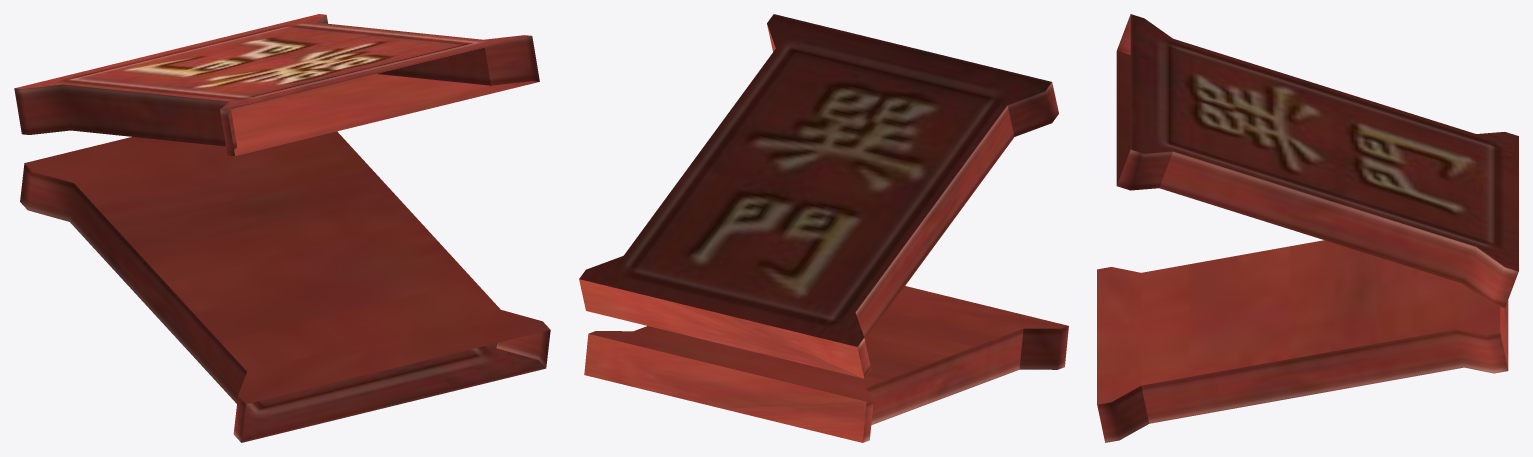
3 renders of one model, left to right at view 1: azimuth 30°, elevation 25°; view 2: azimuth 150°, elevation 25°; view 3: azimuth 270°, elevation 25°, orthographic. The views are drawn at different scales.
Parts seen in each view (by area): view 1: Object42; view 2: Object42; view 3: Object42.
Boxes of the visible parts, x1=… form: Object42: x1=14, y1=14, x2=550, y2=442; Object42: x1=579, y1=14, x2=1068, y2=442; Object42: x1=1097, y1=14, x2=1518, y2=442.
Bounding box in the file's own units: 26.33 × 26.62 × 34.65.
